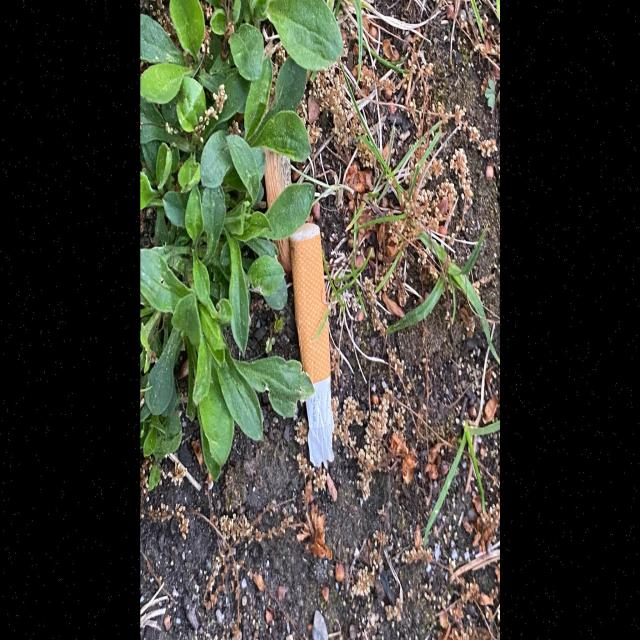other waste: (288, 219, 335, 471)
